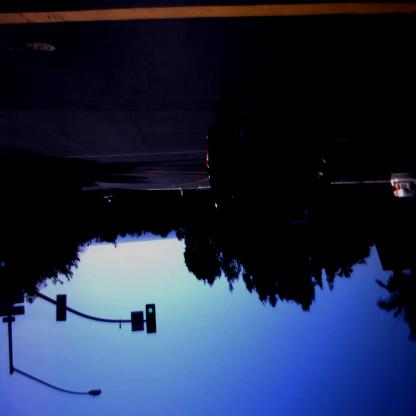trafficlight: (144, 302, 158, 334)
